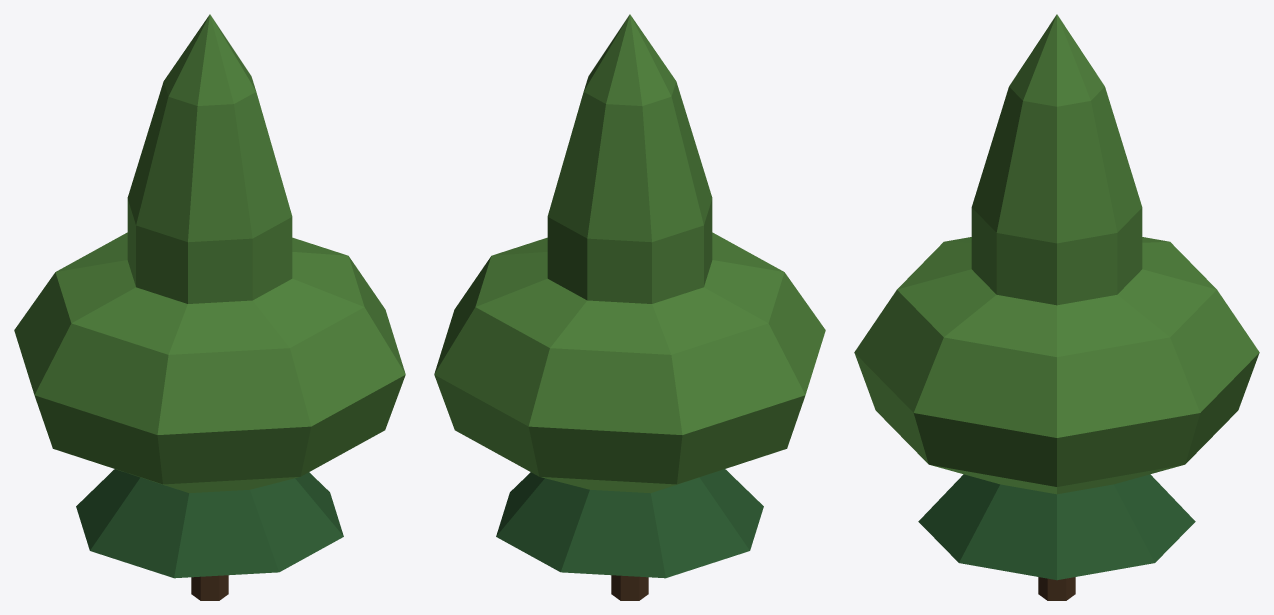
File: tree.glb
The picture shows the model from 3 angles, left to right: view 1: azimuth 30°, elevation 25°; view 2: azimuth 150°, elevation 25°; view 3: azimuth 270°, elevation 25°; orthographic projection.
Visible parts, largest first — view 1: TreeB, TreeC, TreeA; view 2: TreeB, TreeC, TreeA; view 3: TreeB, TreeC, TreeA.
Boxes of the visible parts, <box> form: TreeB: <box>14,232,405,600</box>; TreeC: <box>127,14,292,303</box>; TreeA: <box>76,469,343,578</box>; TreeB: <box>434,232,825,600</box>; TreeC: <box>547,14,712,303</box>; TreeA: <box>496,469,763,578</box>; TreeB: <box>854,237,1259,600</box>; TreeC: <box>971,14,1142,305</box>; TreeA: <box>918,474,1195,580</box>.
Bounding box in the file's own units: 7.6 × 12 × 7.6.
